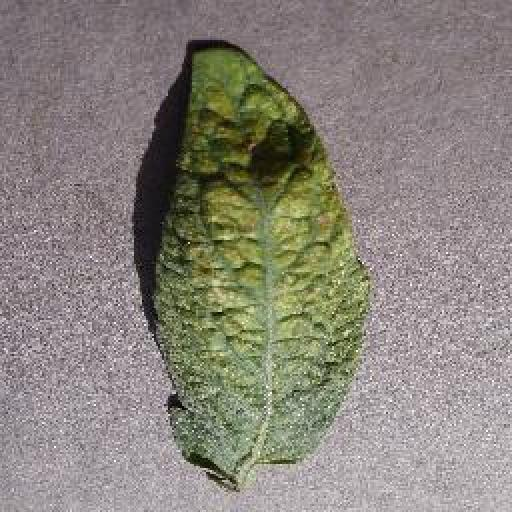disease_tomato: (154, 46, 370, 470)
